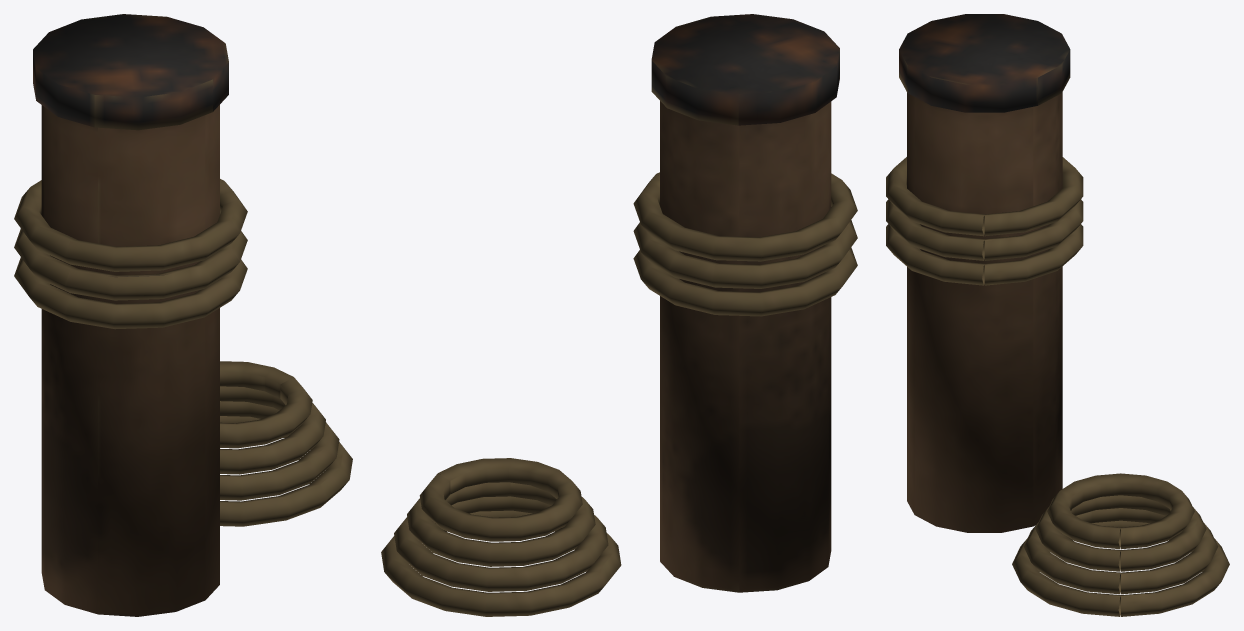
The model's file is mooring_post.obj.
3 views of the same model, side by side, from view 1: azimuth 30°, elevation 25°; view 2: azimuth 150°, elevation 25°; view 3: azimuth 270°, elevation 25° (orthographic). The views are drawn at different scales.
Visible parts, largest first — view 1: part0, part2, part1; view 2: part0, part2, part1; view 3: part0, part2, part1.
Boxes of the visible parts, box(x1,y1,x2,y2) form: part0: box(41, 105, 219, 616); part2: box(14, 179, 352, 526); part1: box(33, 14, 228, 130); part0: box(660, 101, 831, 592); part2: box(381, 172, 857, 616); part1: box(651, 14, 839, 125); part0: box(907, 92, 1062, 532); part2: box(886, 157, 1229, 616); part1: box(899, 14, 1070, 112).
Size of the model in its own units: 0.99 by 1.28 by 0.8835.
